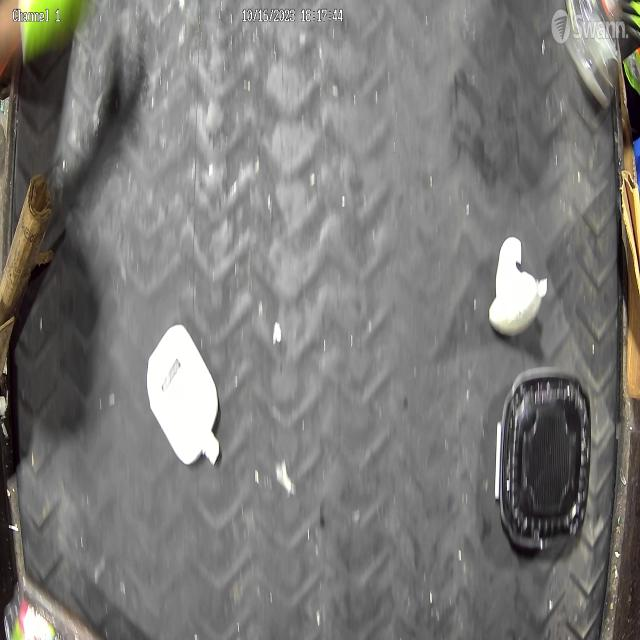milk_jug: (144, 323, 223, 473)
